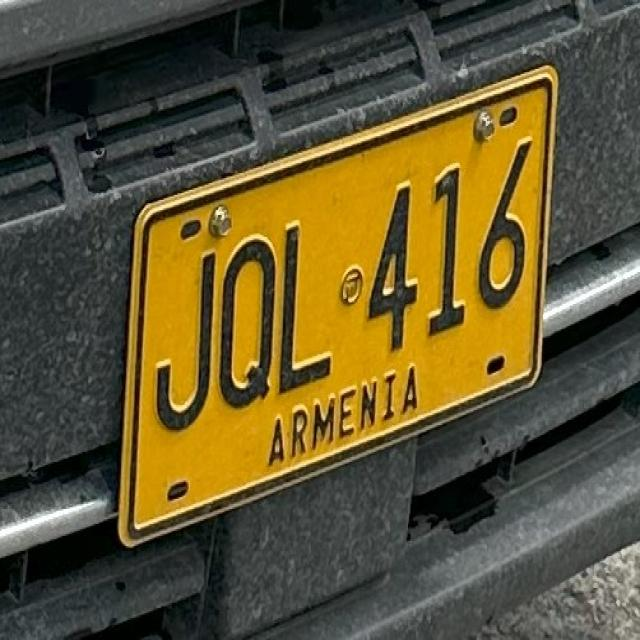number plate: (117, 64, 555, 543)
